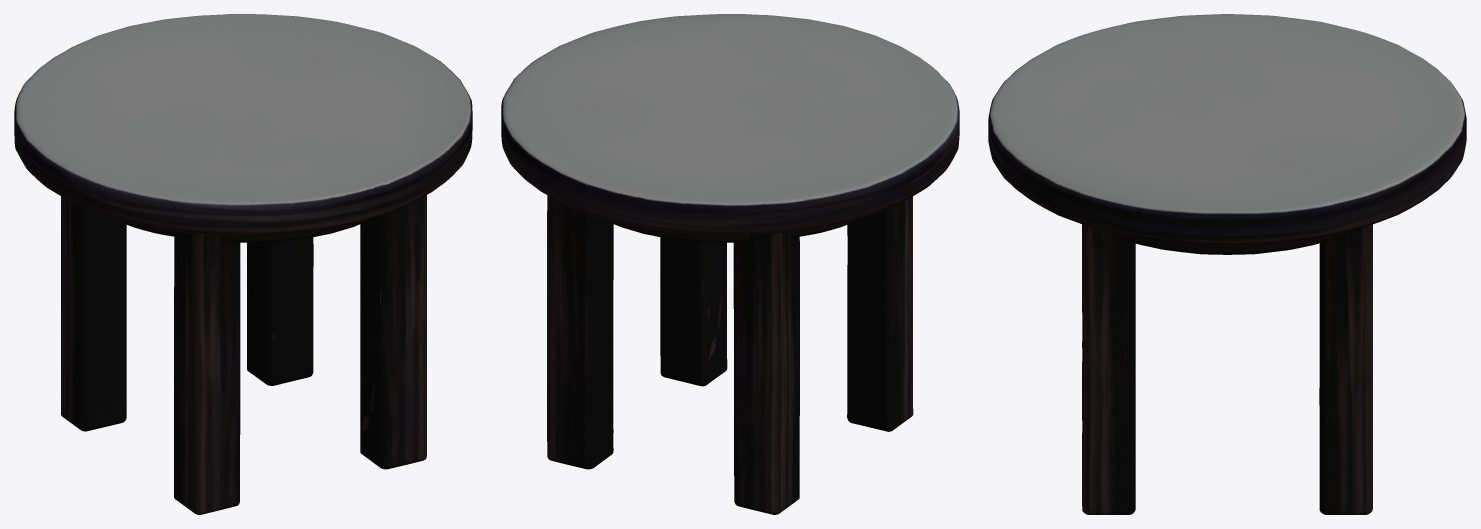
The model's file is SideTable.glb.
3 renders of one model, left to right at view 1: azimuth 30°, elevation 25°; view 2: azimuth 150°, elevation 25°; view 3: azimuth 270°, elevation 25°, orthographic. The views are drawn at different scales.
Parts seen in each view (by area): view 1: SideTable; view 2: SideTable; view 3: SideTable.
Part boxes in pixels (box(x1,y1,x2,y2)): SideTable: box(14, 14, 472, 514); SideTable: box(501, 14, 959, 514); SideTable: box(988, 14, 1466, 514).
Size of the model in its own units: 1.99 by 1.58 by 1.99.
Materials: 1 (1 with a texture image).
